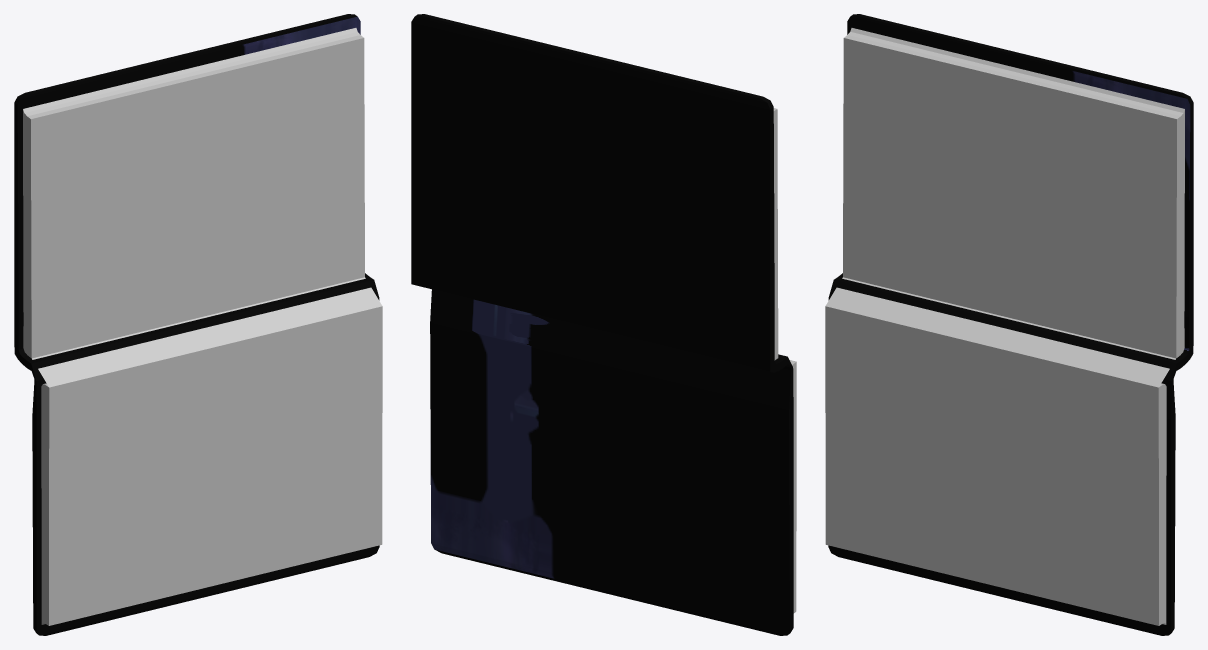
File: Arm_Book_open.obj
3 renders of one model, left to right at view 1: azimuth 30°, elevation 25°; view 2: azimuth 150°, elevation 25°; view 3: azimuth 330°, elevation 25°, orthographic. The views are drawn at different scales.
Parts seen in each view (by area): view 1: obj_Book_open; view 2: obj_Book_open; view 3: obj_Book_open.
Part boxes in pixels (<box>): obj_Book_open: <box>14,14,382,635</box>; obj_Book_open: <box>411,14,796,635</box>; obj_Book_open: <box>825,14,1193,635</box>.
Bounding box in the file's own units: 0.296 × 0.4349 × 0.045.
